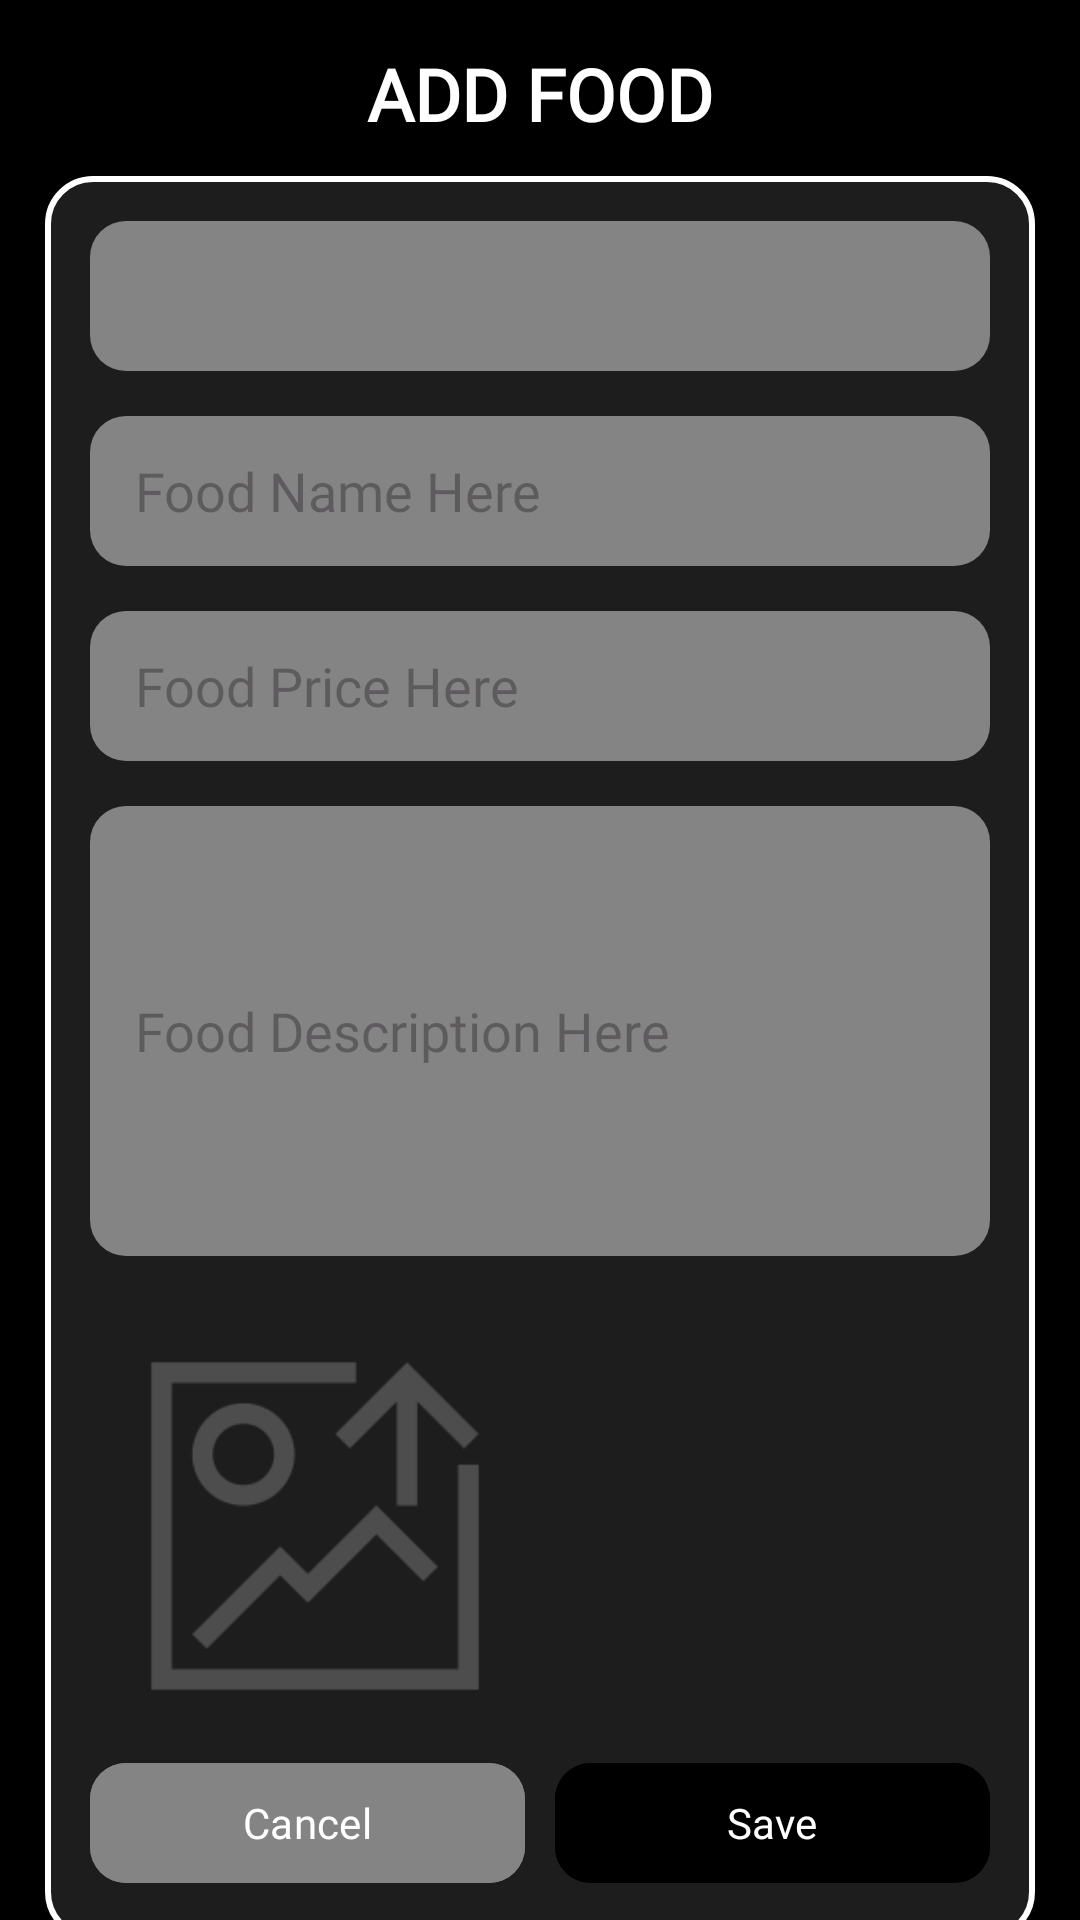

Named icons in this screenshot (1080w x 1920h) and their bounding boxes, (x1, y1, x2, y2):
upload: (151, 1362, 479, 1690)
